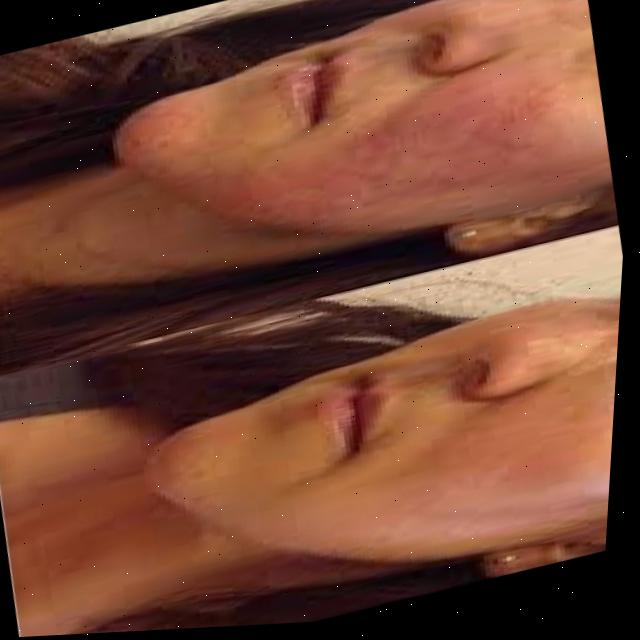Rosacea: (208, 71, 551, 276)
